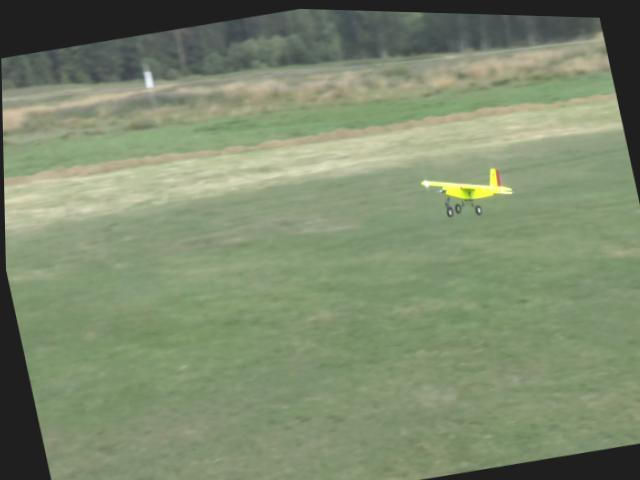plane: (419, 159, 516, 222)
